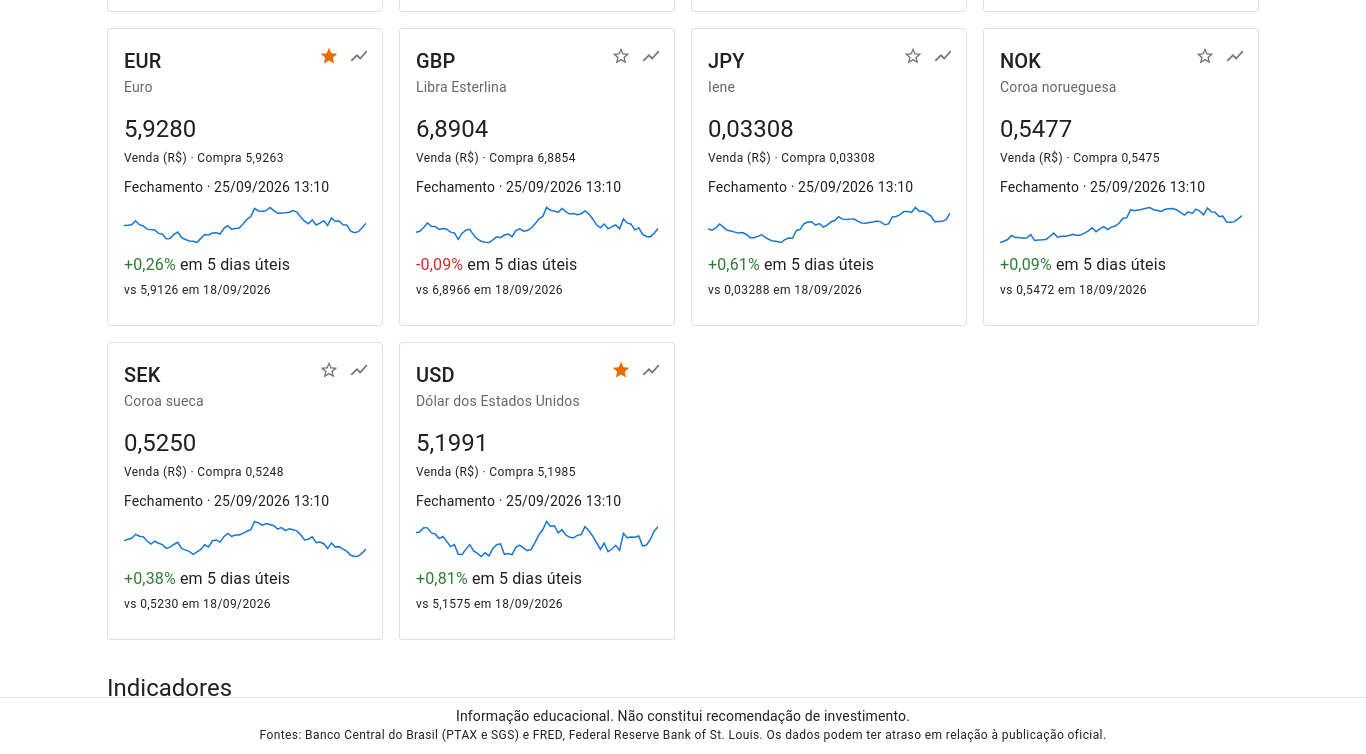
Test: App › should explain in the chart modal why the currency and the indicator are worth following
(page scrolled)
Click the button named "Ver gráfico de USD".
click(651, 370)  # box [636,355,666,385]
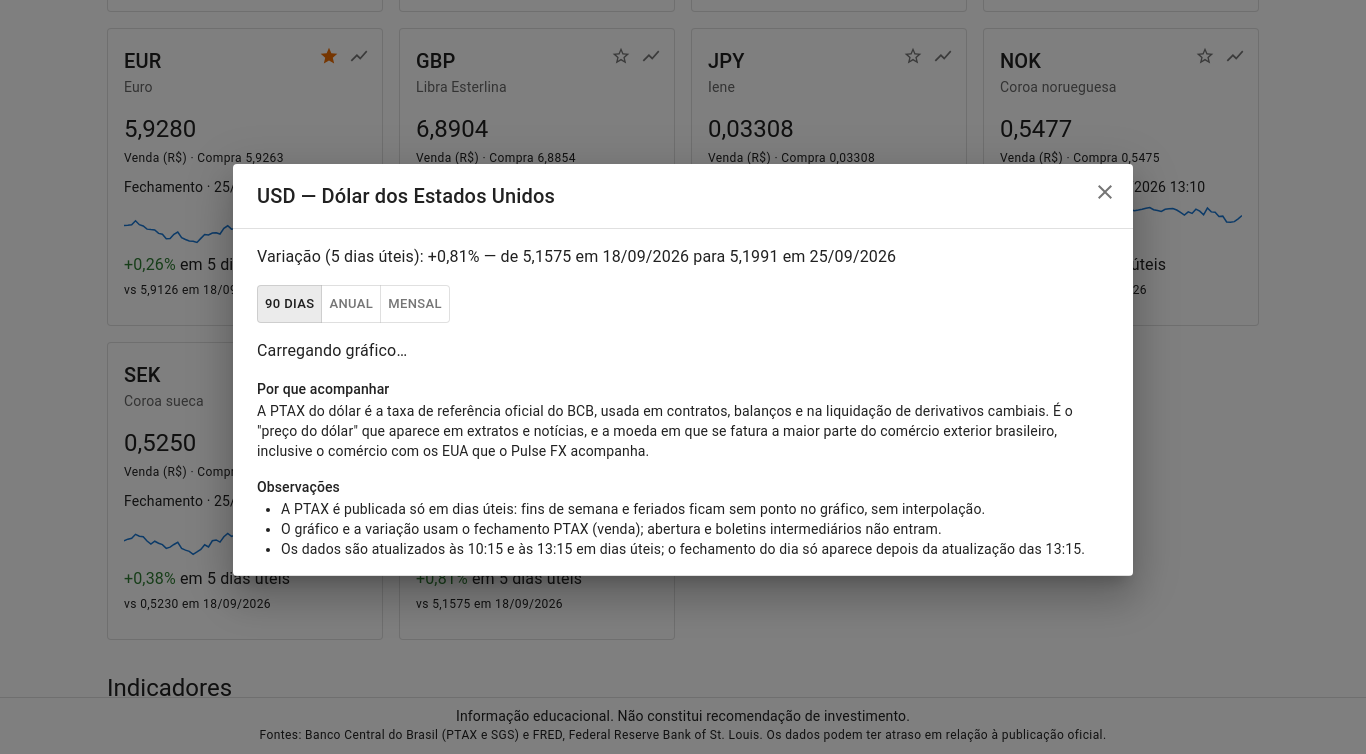
Now the element "Por que acompanhar" shows "A PTAX do dólar é a taxa de referência oficial do BCB", box [257,403,1073,459]
Click the button named "Fechar".
click(1105, 192)  # box [1085,172,1125,212]
(page scrolled)
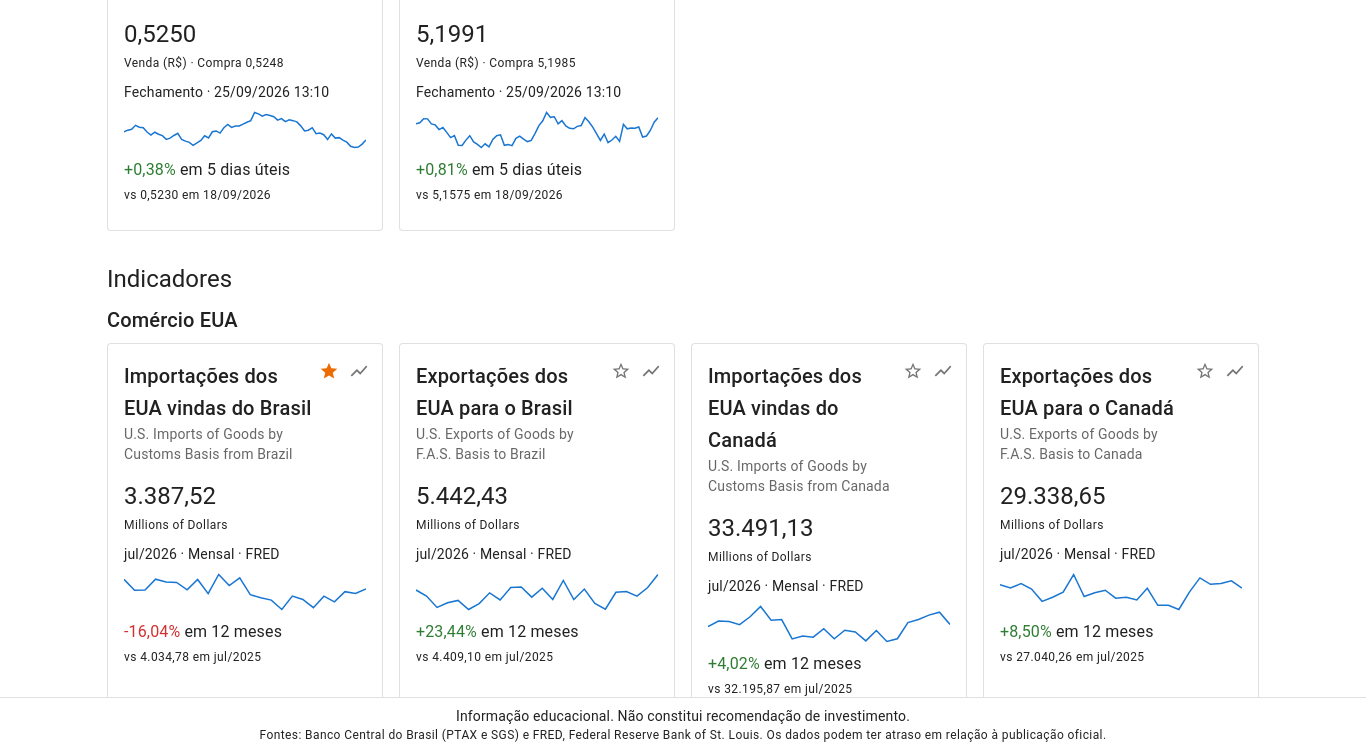
Now the dialog is gone
Click the button named "Ver gráfico de Importações dos EUA vindas do Brasil".
click(359, 371)  # box [344,356,374,386]
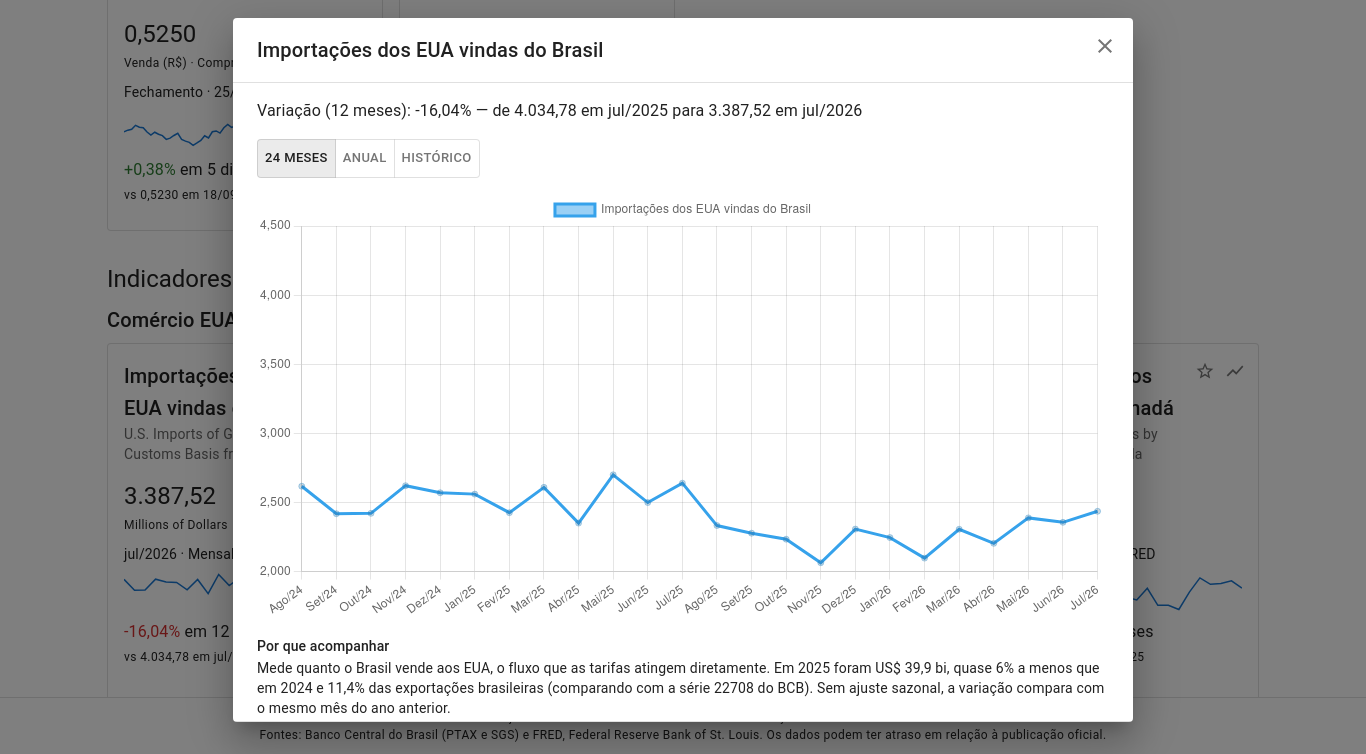
Now the element "Por que acompanhar" shows "Mede quanto o Brasil vende aos EUA", box [257,660,1104,716]
